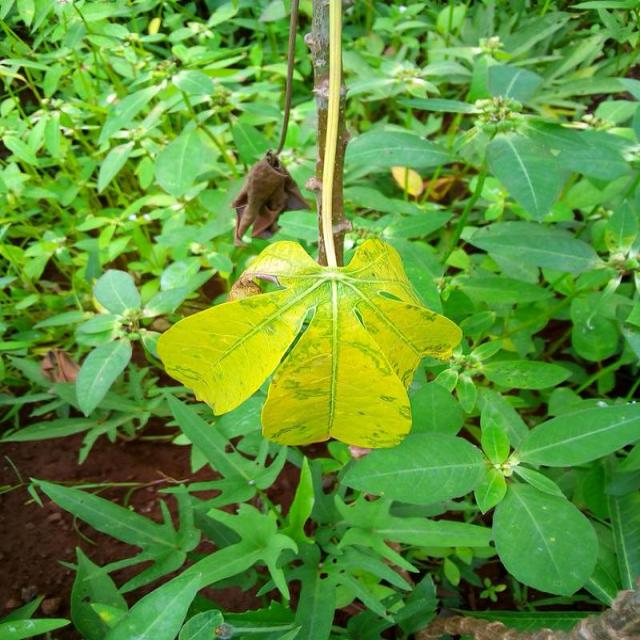cassava leaf: (156, 235, 464, 450)
